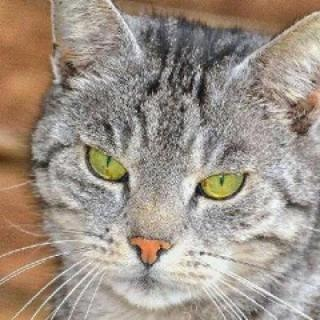cat: (21, 10, 320, 305)
nose: (125, 217, 177, 270)
